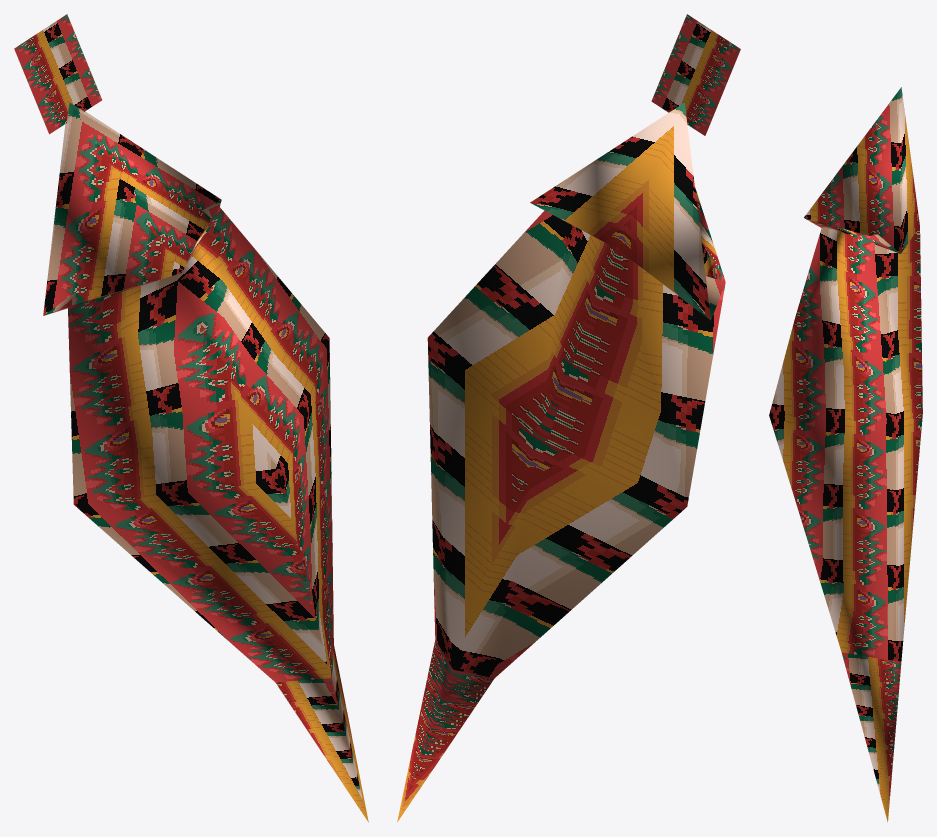
The model's file is 5051musi61_e.gltf.
3 views of the same model, side by side, from view 1: azimuth 30°, elevation 25°; view 2: azimuth 150°, elevation 25°; view 3: azimuth 270°, elevation 25° (orthographic). The views are drawn at different scales.
Visible parts, largest first — view 1: 5051musi61_e; view 2: 5051musi61_e; view 3: 5051musi61_e.
Part boxes in pixels (bbox=[...]): 5051musi61_e: bbox=[14, 14, 368, 822]; 5051musi61_e: bbox=[397, 14, 740, 822]; 5051musi61_e: bbox=[769, 87, 922, 822].
Size of the model in its own units: 0.2168 by 0.5225 by 0.1052.
1 material, 1 textured.
